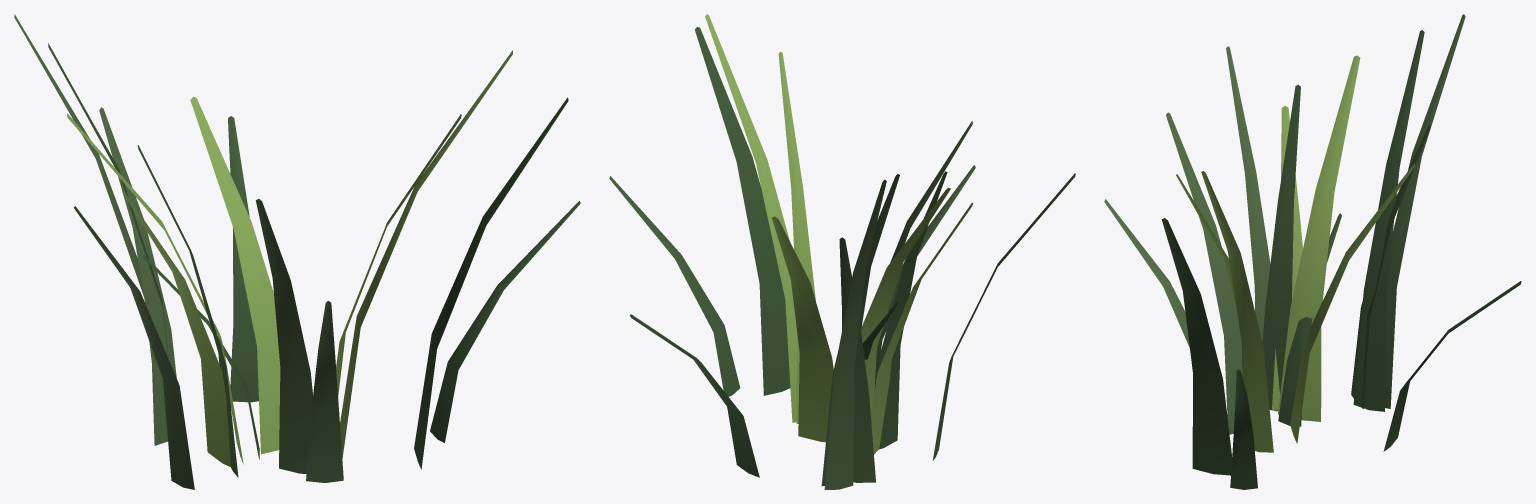
Rendered from deco_grass.glb.
3 renders of one model, left to right at view 1: azimuth 30°, elevation 25°; view 2: azimuth 150°, elevation 25°; view 3: azimuth 270°, elevation 25°, orthographic. The views are drawn at different scales.
Visible parts, largest first — view 1: body; view 2: body; view 3: body.
Part boxes in pixels (bbox=[...]): body: bbox=[14, 14, 580, 489]; body: bbox=[609, 14, 1075, 489]; body: bbox=[1104, 14, 1521, 489].
Size of the model in its own units: 0.9813 by 0.7428 by 0.8007.
